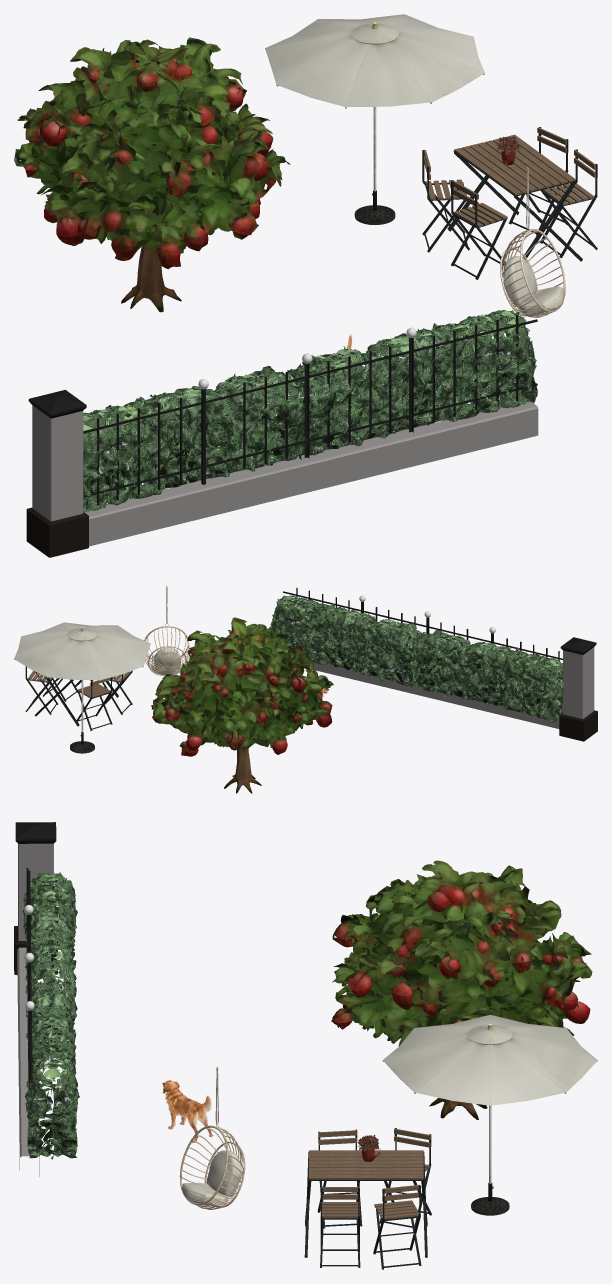
Rendered from jardin.glb.
The picture shows the model from 3 angles, top to bottom: view 1: azimuth 30°, elevation 25°; view 2: azimuth 150°, elevation 25°; view 3: azimuth 270°, elevation 25°; orthographic projection. The views are drawn at different scales.
Visible parts, largest first — view 1: Object_4, LONG_skinny_1_mesh_hedge_model_0, LONG_skinny_1_mesh_hedge_dom_creame_0, Patio_Umbrella_Patio_Umbrella_0, LONG_skinny_1_mesh_hedge_MET_0, Chair1_Wood049_2K_0, Chair1_Metal028_2K_0, LONG_skinny_1_mesh_hedge_dom_GRAY_0, Retopo_F_cloth_panel001_Chair_Fabric_0, Retopo_F_cloth_panel001_Bamboo_0; view 2: Object_4, LONG_skinny_1_mesh_hedge_model_0, Patio_Umbrella_Patio_Umbrella_0, LONG_skinny_1_mesh_hedge_dom_creame_0, Chair1_Metal028_2K_0, LONG_skinny_1_mesh_hedge_MET_0, Retopo_F_cloth_panel001_Bamboo_0, LONG_skinny_1_mesh_hedge_dom_GRAY_0, Retopo_F_cloth_panel001_Chair_Fabric_0, Chair1_Wood049_2K_0; view 3: Object_4 (×2), Patio_Umbrella_Patio_Umbrella_0, LONG_skinny_1_mesh_hedge_model_0, Chair1_Wood049_2K_0, LONG_skinny_1_mesh_hedge_dom_creame_0, Chair1_Metal028_2K_0, Retopo_F_cloth_panel001_Chair_Fabric_0, LONG_skinny_1_mesh_hedge_MET_0, Retopo_F_cloth_panel001_Bamboo_0.
Part boxes in pixels (bbox=[...]): Object_4: bbox=[14, 37, 290, 312]; LONG_skinny_1_mesh_hedge_model_0: bbox=[83, 310, 537, 512]; LONG_skinny_1_mesh_hedge_dom_creame_0: bbox=[32, 402, 538, 546]; Patio_Umbrella_Patio_Umbrella_0: bbox=[265, 14, 484, 224]; LONG_skinny_1_mesh_hedge_MET_0: bbox=[28, 315, 537, 505]; Chair1_Wood049_2K_0: bbox=[424, 127, 595, 227]; Chair1_Metal028_2K_0: bbox=[422, 127, 597, 279]; LONG_skinny_1_mesh_hedge_dom_GRAY_0: bbox=[26, 402, 88, 557]; Retopo_F_cloth_panel001_Chair_Fabric_0: bbox=[503, 167, 564, 316]; Retopo_F_cloth_panel001_Bamboo_0: bbox=[500, 226, 565, 317]; Object_4: bbox=[151, 617, 333, 793]; LONG_skinny_1_mesh_hedge_model_0: bbox=[269, 595, 564, 722]; Patio_Umbrella_Patio_Umbrella_0: bbox=[14, 622, 150, 753]; LONG_skinny_1_mesh_hedge_dom_creame_0: bbox=[293, 645, 594, 728]; Chair1_Metal028_2K_0: bbox=[25, 666, 132, 730]; LONG_skinny_1_mesh_hedge_MET_0: bbox=[283, 588, 596, 674]; Retopo_F_cloth_panel001_Bamboo_0: bbox=[144, 623, 189, 675]; LONG_skinny_1_mesh_hedge_dom_GRAY_0: bbox=[559, 645, 597, 741]; Retopo_F_cloth_panel001_Chair_Fabric_0: bbox=[151, 586, 181, 674]; Chair1_Wood049_2K_0: bbox=[27, 670, 130, 697]; Object_4 (×2): bbox=[162, 860, 592, 1142]; Patio_Umbrella_Patio_Umbrella_0: bbox=[382, 1014, 597, 1215]; LONG_skinny_1_mesh_hedge_model_0: bbox=[22, 872, 79, 1159]; Chair1_Wood049_2K_0: bbox=[309, 1128, 430, 1219]; LONG_skinny_1_mesh_hedge_dom_creame_0: bbox=[17, 843, 53, 1176]; Chair1_Metal028_2K_0: bbox=[304, 1128, 431, 1269]; Retopo_F_cloth_panel001_Chair_Fabric_0: bbox=[181, 1067, 242, 1207]; LONG_skinny_1_mesh_hedge_MET_0: bbox=[15, 822, 56, 1143]; Retopo_F_cloth_panel001_Bamboo_0: bbox=[179, 1123, 245, 1209].
Bounding box in the file's own units: 9.27 × 3.2 × 6.95.
14 materials, 9 textured.
